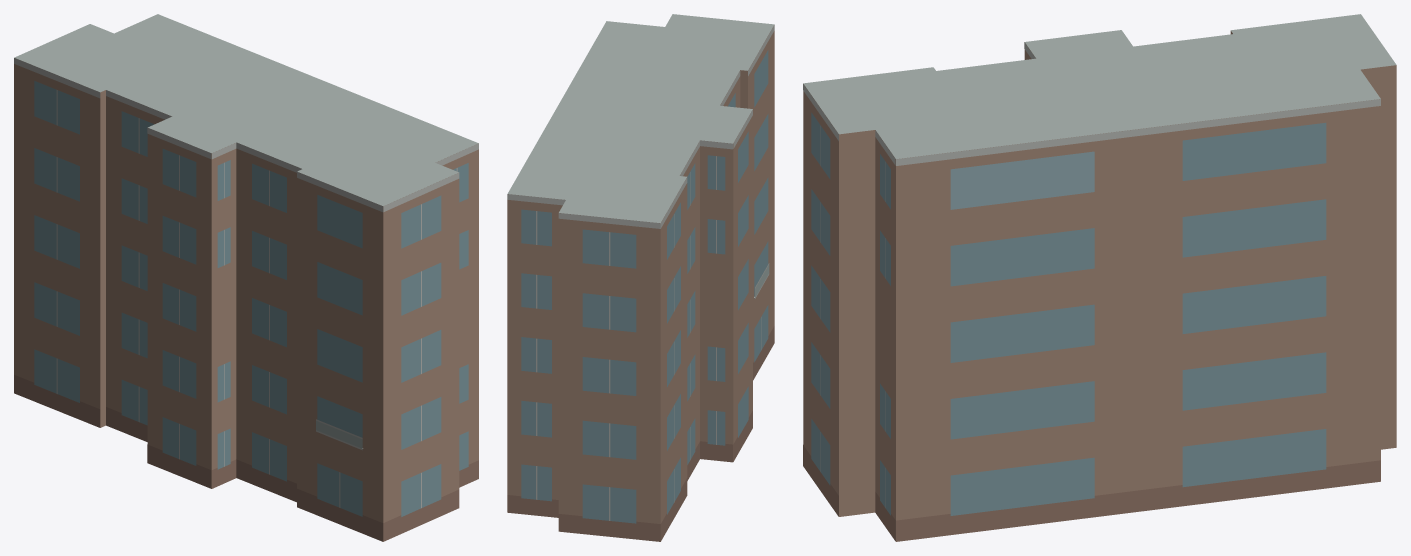
File: survey-upis-32611004.glb
3 views of the same model, side by side, from view 1: azimuth 30°, elevation 25°; view 2: azimuth 150°, elevation 25°; view 3: azimuth 270°, elevation 25° (orthographic). The views are drawn at different scales.
Parts seen in each view (by area): view 1: survey-upis-32611004.tmp; view 2: survey-upis-32611004.tmp; view 3: survey-upis-32611004.tmp.
Part boxes in pixels (left/top/right/bottom): survey-upis-32611004.tmp: left=14, top=14, right=478, bottom=541; survey-upis-32611004.tmp: left=507, top=14, right=774, bottom=541; survey-upis-32611004.tmp: left=803, top=14, right=1396, bottom=541.
Bounding box in the file's own units: 10.91 × 13.4 × 18.85.
